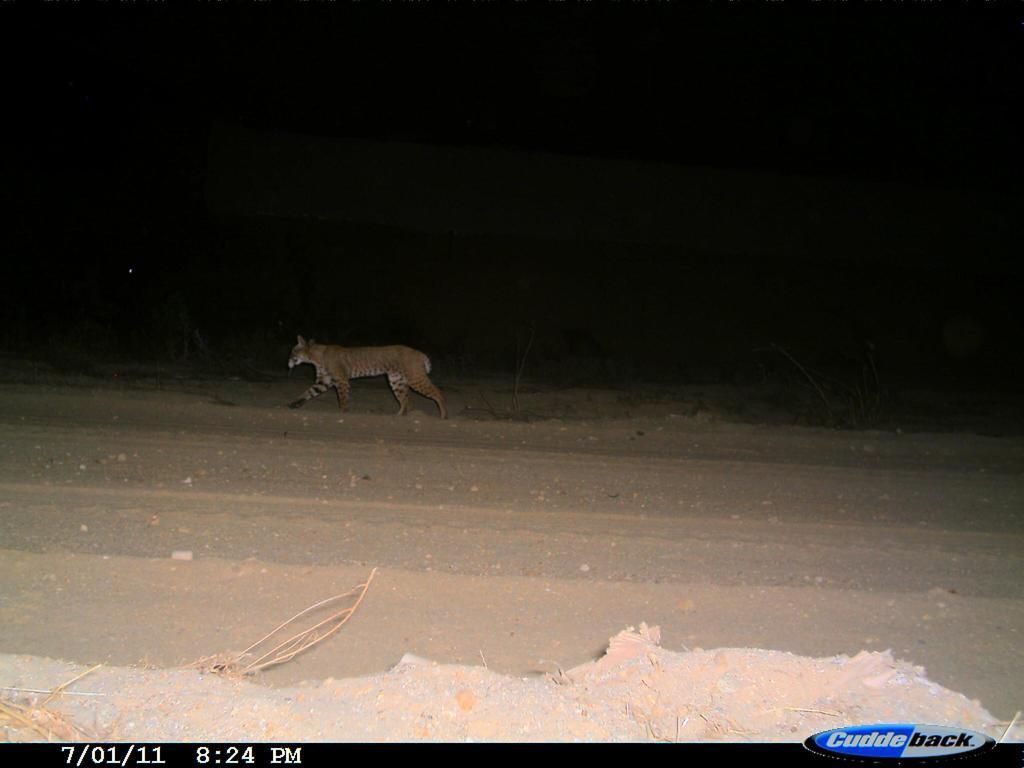bobcat: (277, 329, 469, 437)
